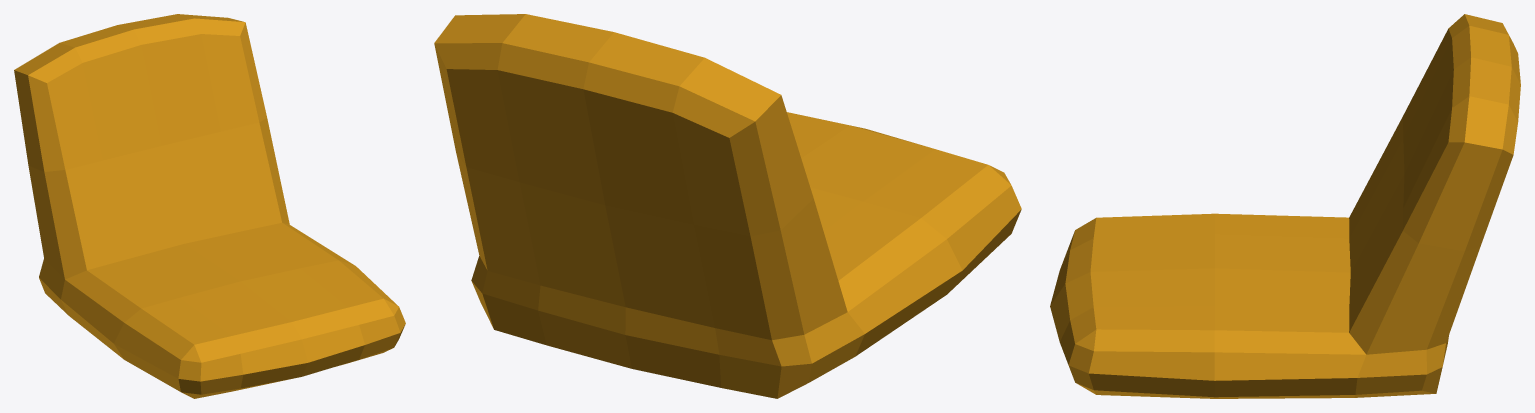
Rendered from Personal_Vehicle_02_Seat_Yellow.fbx.
The picture shows the model from 3 angles, left to right: view 1: azimuth 30°, elevation 25°; view 2: azimuth 150°, elevation 25°; view 3: azimuth 270°, elevation 25°; orthographic projection. The views are drawn at different scales.
Visible parts, largest first — view 1: Personal_Vehicle_02_Seat_Yellow; view 2: Personal_Vehicle_02_Seat_Yellow; view 3: Personal_Vehicle_02_Seat_Yellow.
Boxes of the visible parts, <box> form: Personal_Vehicle_02_Seat_Yellow: <box>14,14,405,398</box>; Personal_Vehicle_02_Seat_Yellow: <box>434,14,1021,398</box>; Personal_Vehicle_02_Seat_Yellow: <box>1050,14,1520,398</box>.
Bounding box in the file's own units: 71.75 × 64.43 × 95.77.
Materials: 1 (1 with a texture image).
